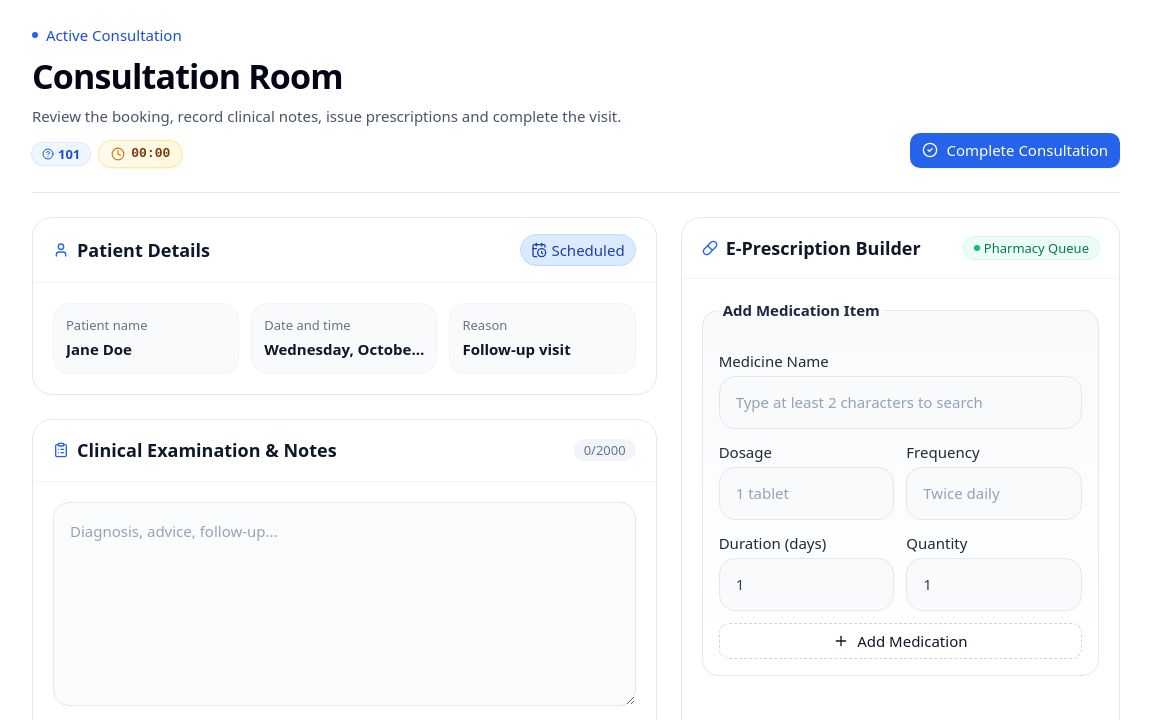
Test: ConsultationPage (DOC-04) — full consultation workflow › issues a prescription with free-text items via POST /api/prescriptions
The image size is (1152, 720).
Expected: the heading "Consultation Room" is shown, x1=32 y1=52 x2=343 y2=98
Expected: the heading "Patient Details" is shown, x1=77 y1=236 x2=210 y2=264
Type "Amoxicillin" into the dropdown labelled "Medicine Name". click: (900, 403)
box: x1=719 y1=376 x2=1082 y2=429
Type "1 capsule" into the field labelled "Dosage". click: (807, 494)
box: x1=719 y1=468 x2=894 y2=520
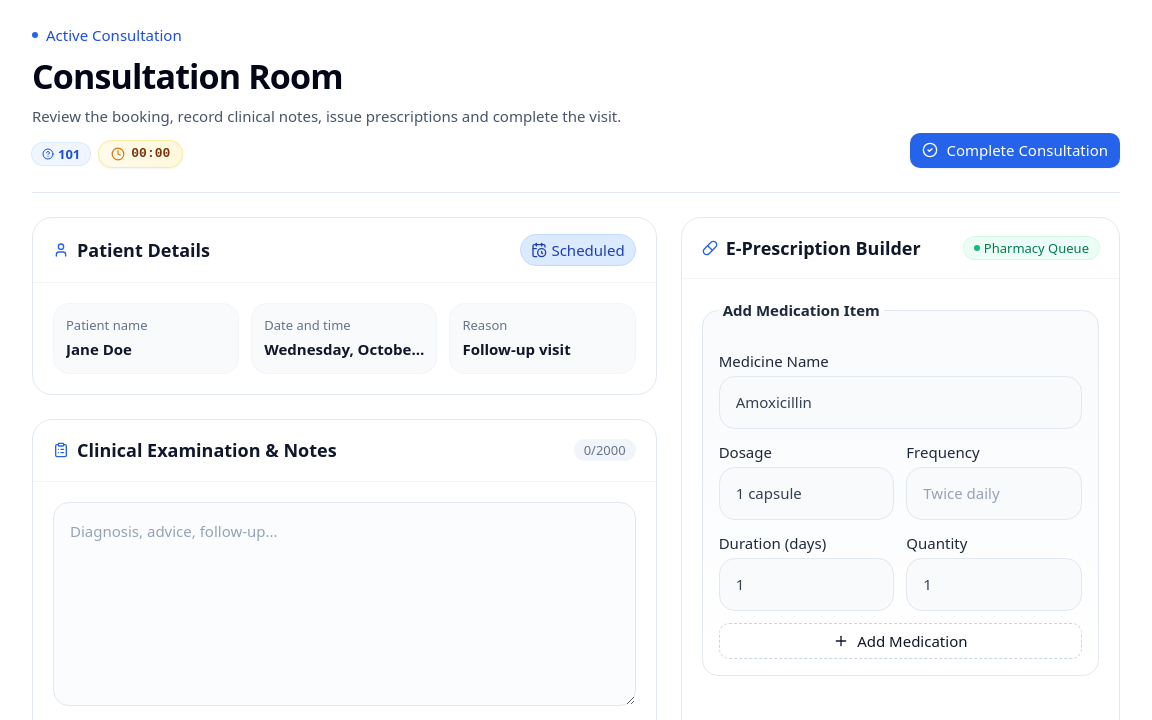
Type "Three times daily" into the field labelled "Frequency". click: (994, 494)
box: x1=906 y1=468 x2=1082 y2=520
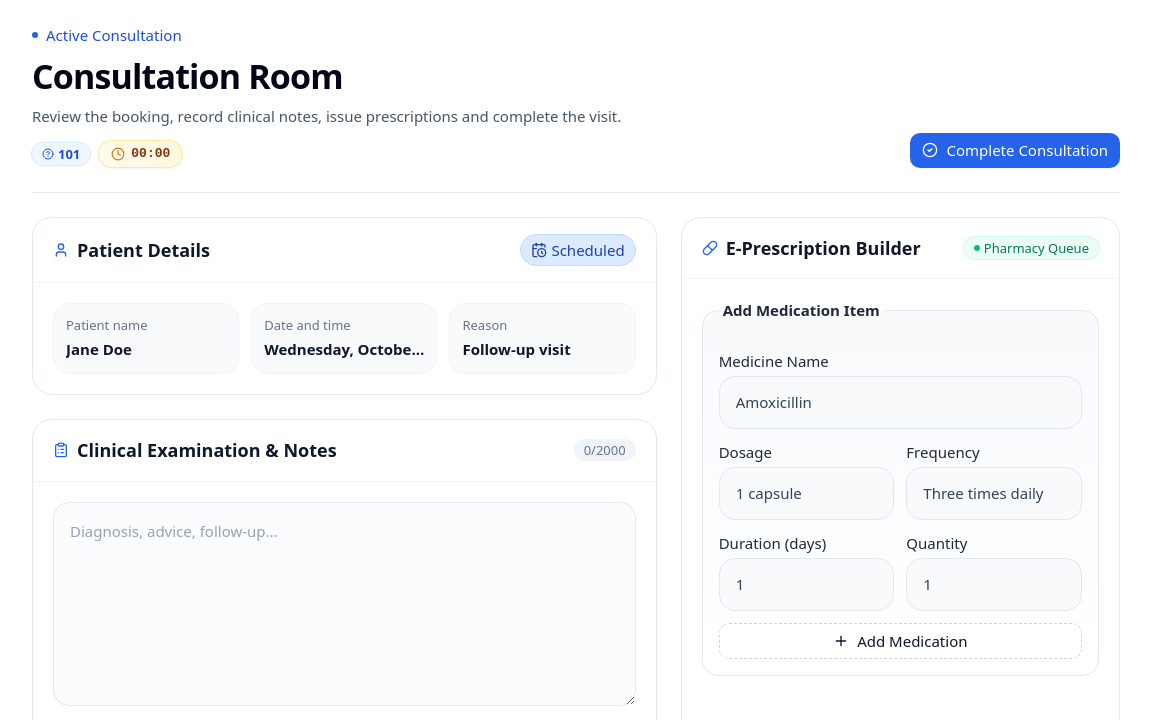
Replace the text in the number field labelled "Duration (days)" with "7". click: (807, 585)
box: x1=719 y1=558 x2=894 y2=611
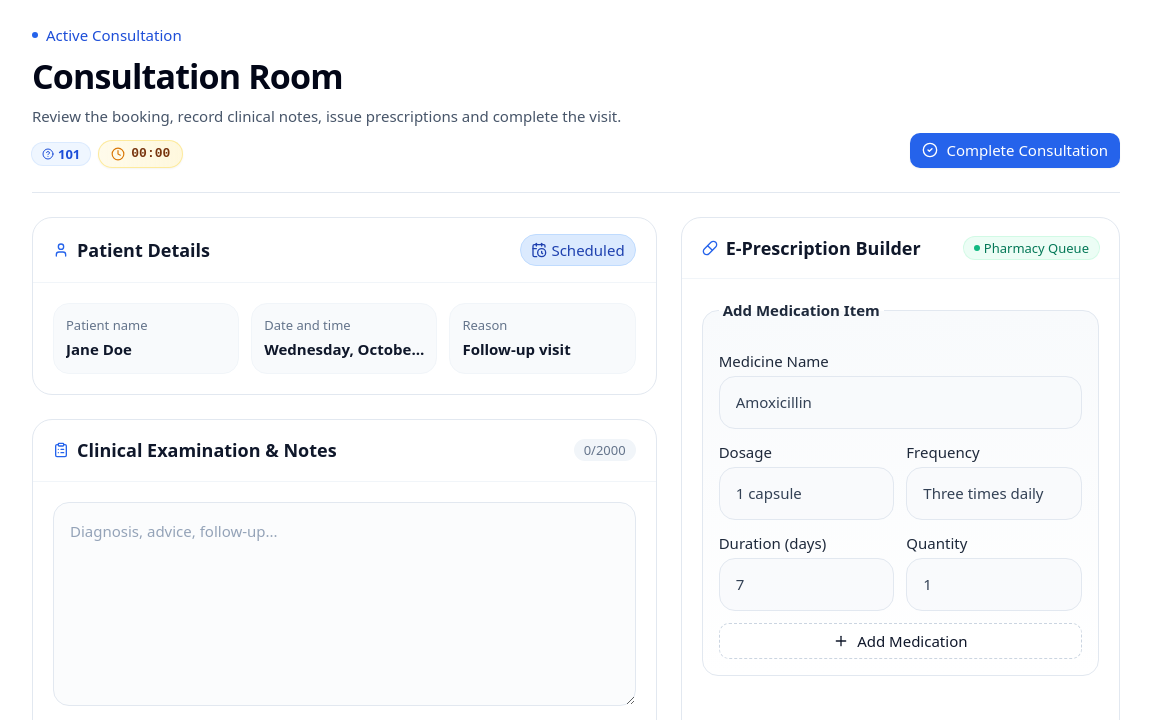
Replace the text in the number field labelled "Quantity" with "21". click: (994, 585)
box: x1=906 y1=558 x2=1082 y2=611
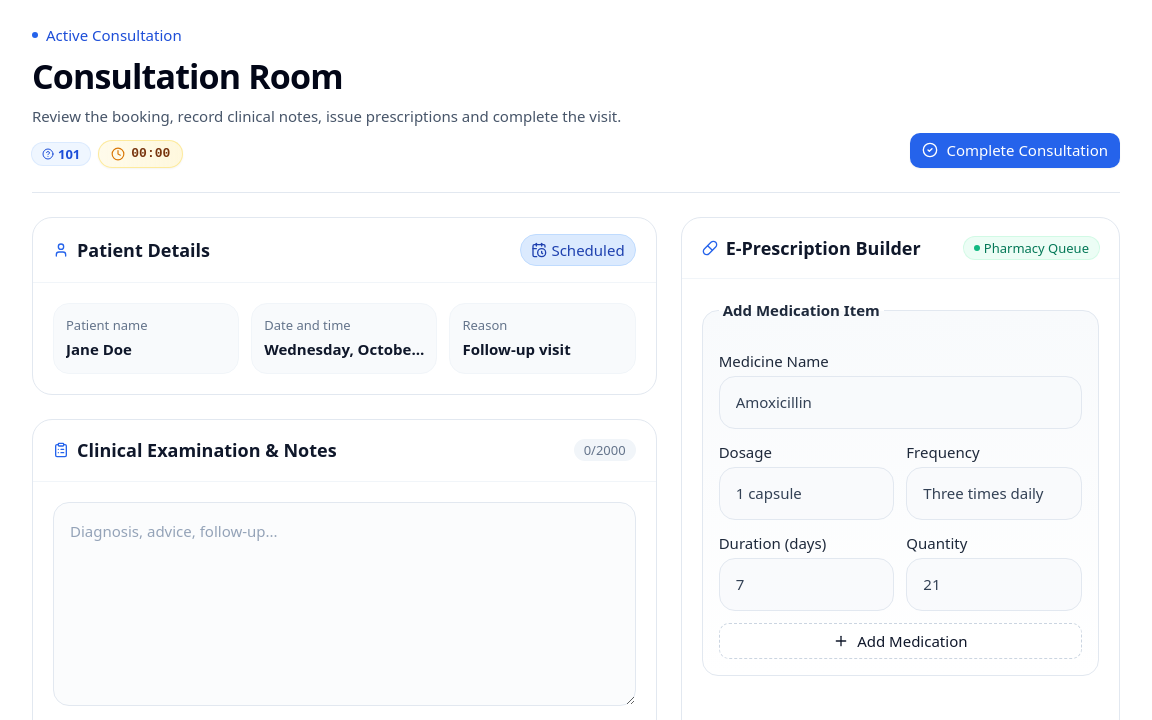
Click the button "Add Medication". click: (900, 641)
box: x1=719 y1=623 x2=1082 y2=660
(page scrolled)
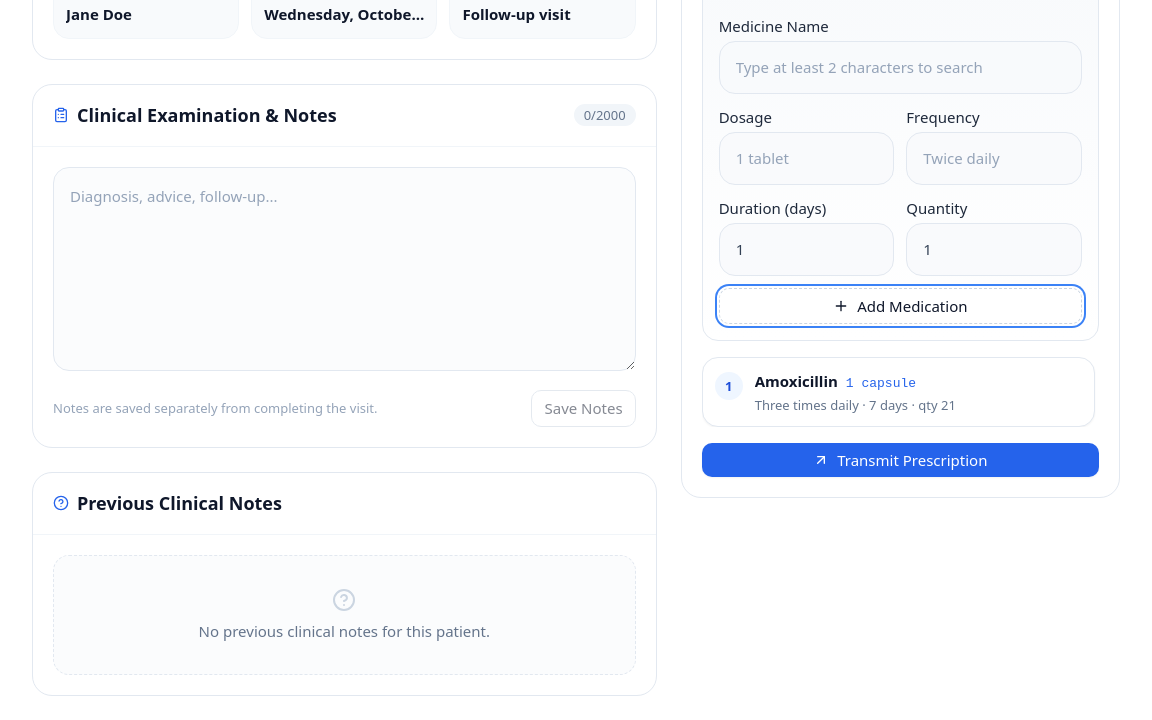
Expected: the text "Amoxicillin1 capsule" is shown, x1=755 y1=372 x2=916 y2=392
Click the button "Transmit Prescription". click: (900, 460)
box: x1=702 y1=443 x2=1099 y2=477
(page scrolled)
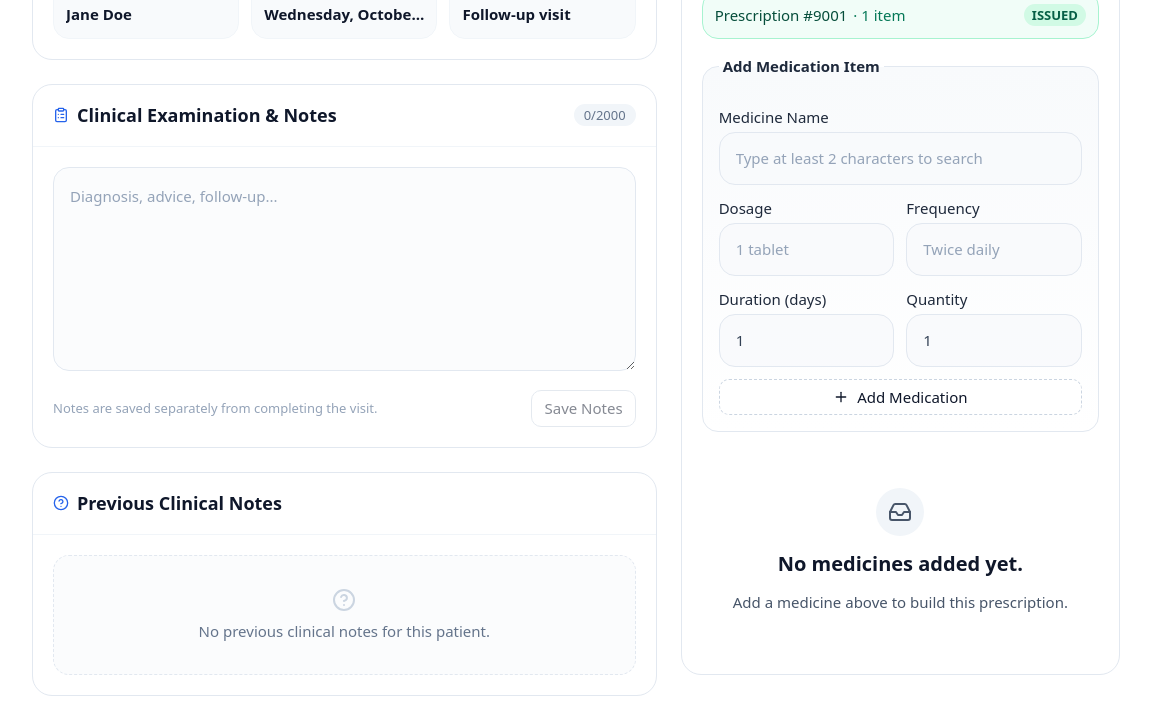
Expected: the text "Prescription #9001· 1 item" is shown, x1=715 y1=4 x2=906 y2=26
